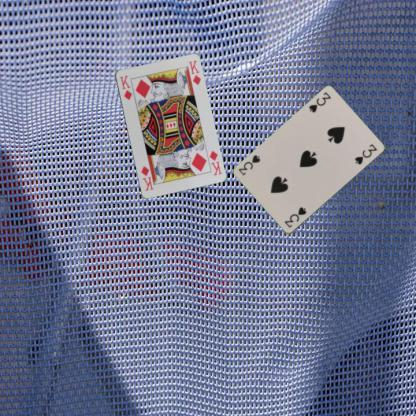3s: (282, 204, 308, 230), (306, 90, 332, 114)
Kd: (117, 72, 133, 102), (207, 148, 223, 176)
